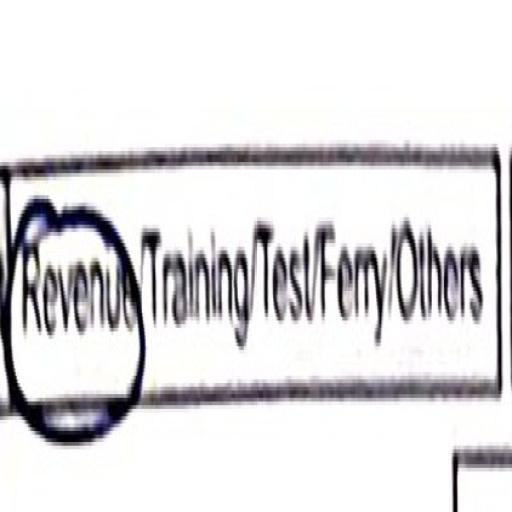check: (0, 130, 149, 470)
